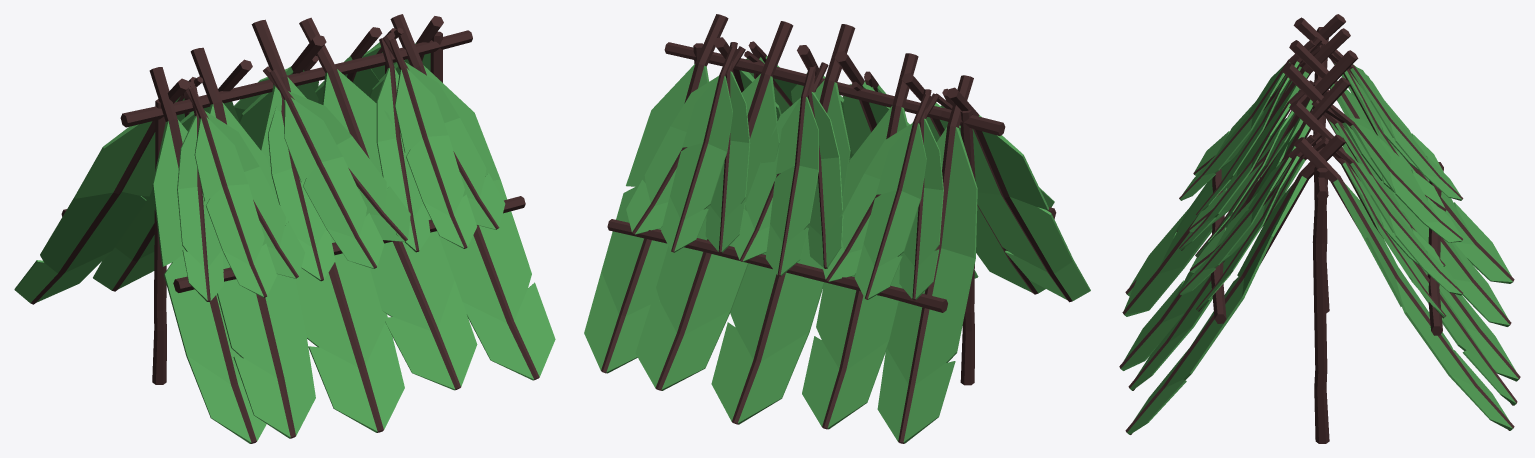
File: Shelter.fbx
The picture shows the model from 3 angles, left to right: view 1: azimuth 30°, elevation 25°; view 2: azimuth 150°, elevation 25°; view 3: azimuth 270°, elevation 25°; orthographic projection. The views are drawn at different scales.
Parts seen in each view (by area): view 1: Primitive_Shelter; view 2: Primitive_Shelter; view 3: Primitive_Shelter.
Part boxes in pixels (bbox=[...]): Primitive_Shelter: bbox=[14, 14, 555, 443]; Primitive_Shelter: bbox=[584, 14, 1090, 443]; Primitive_Shelter: bbox=[1119, 14, 1520, 443].
Bounding box in the file's own units: 7.6 × 6.45 × 7.36.
